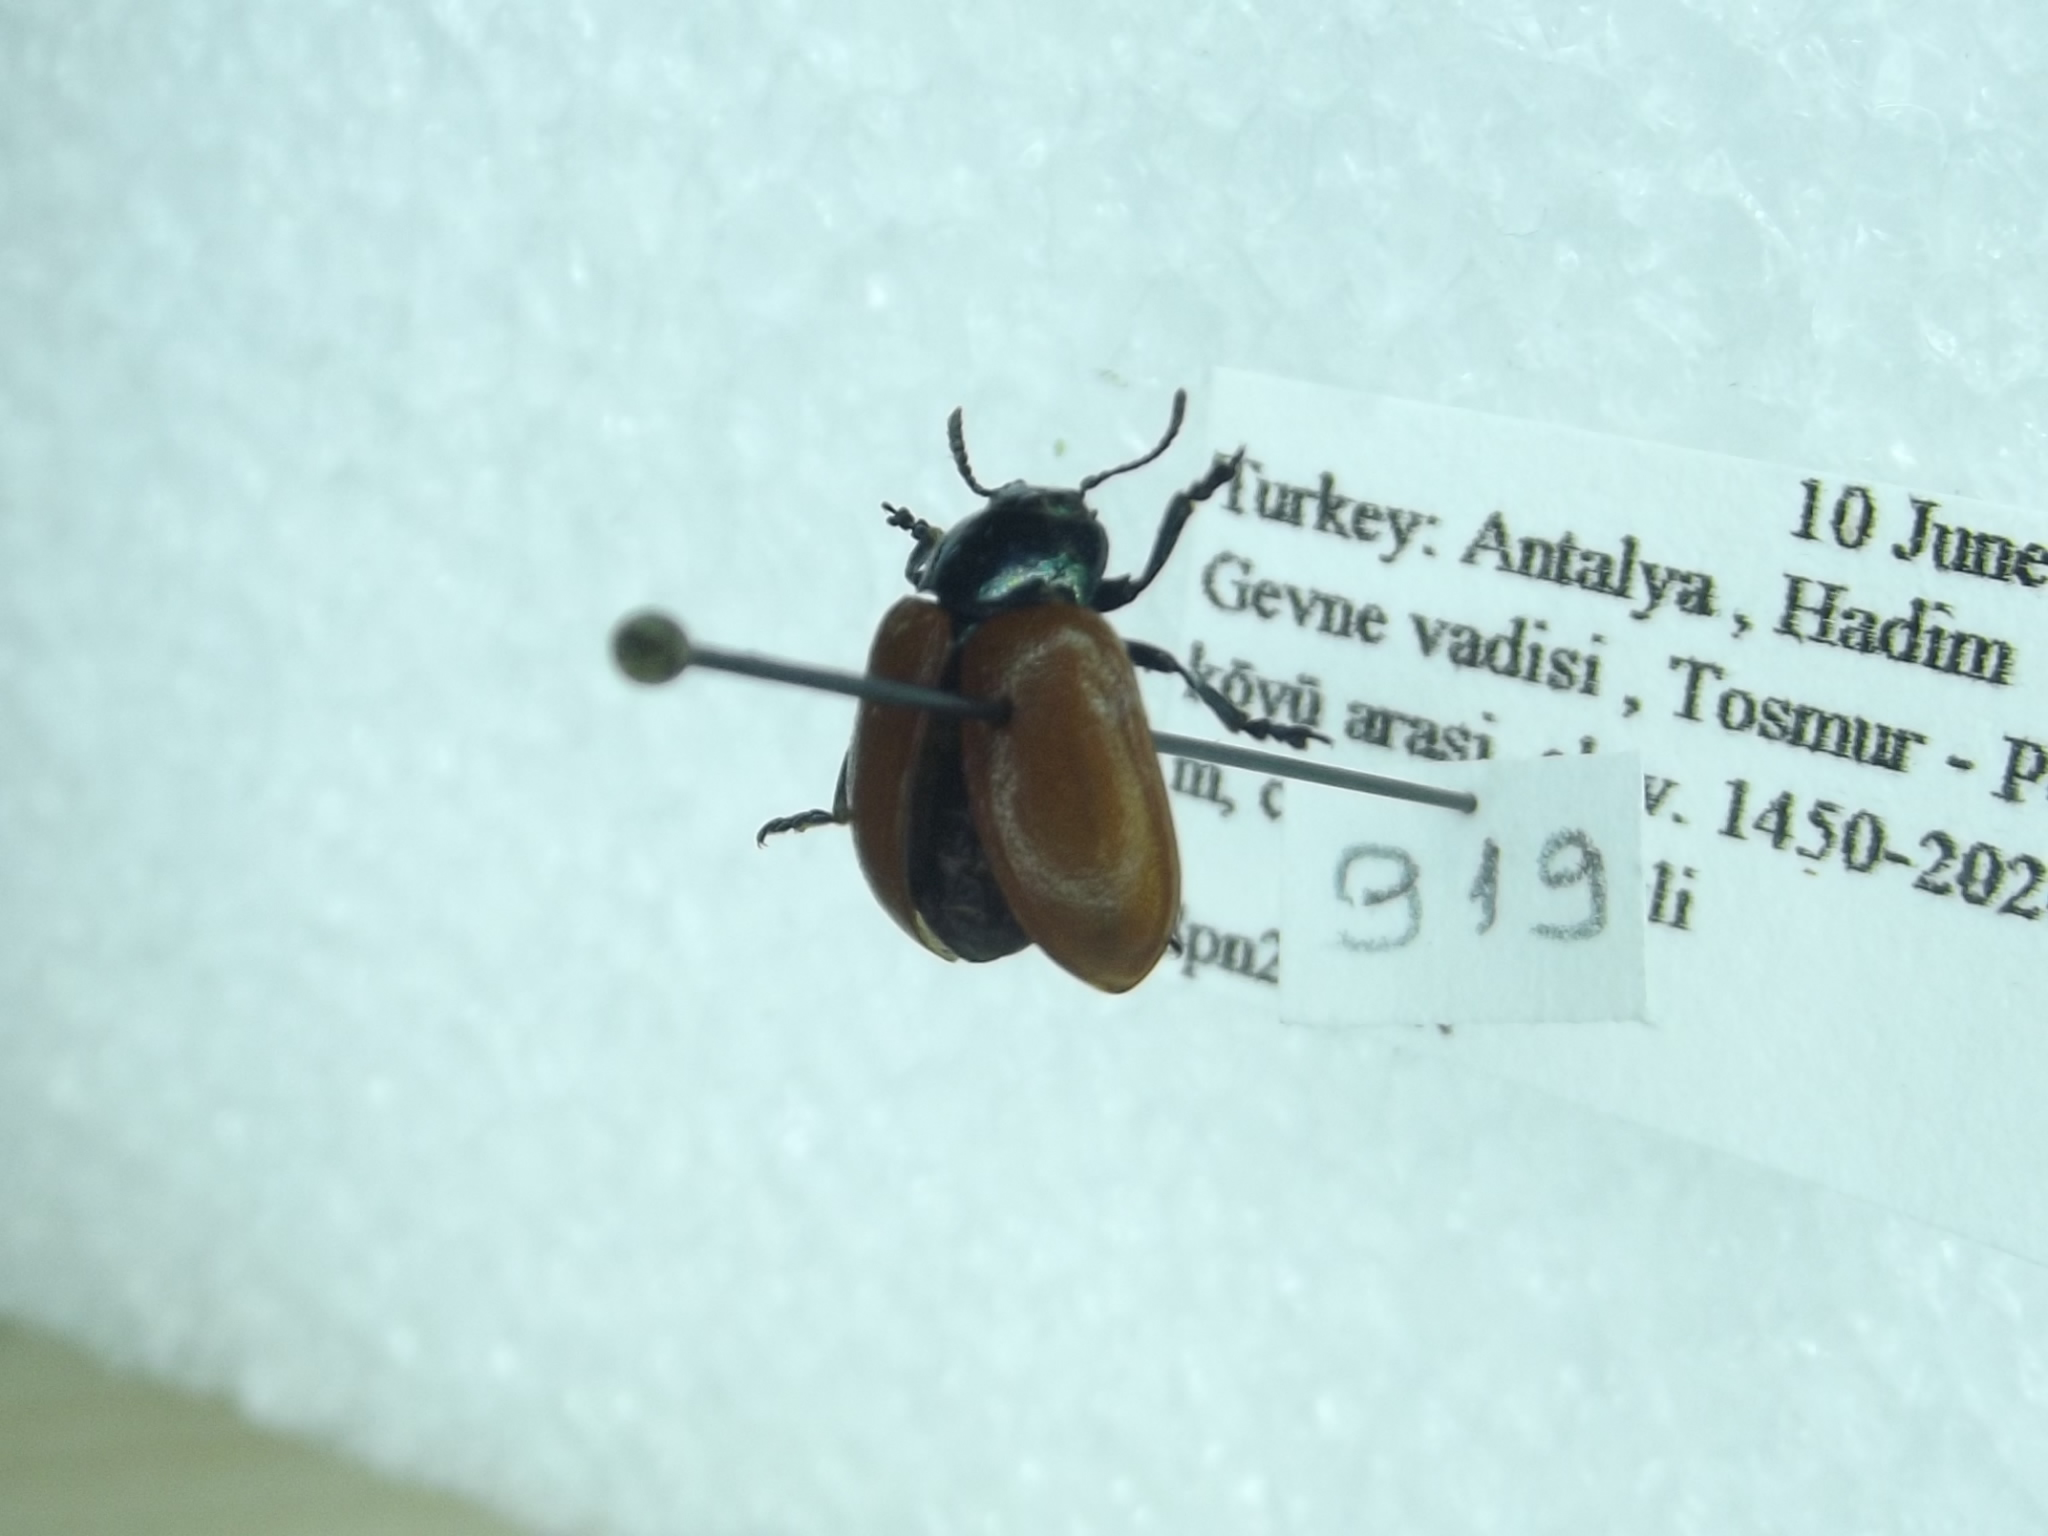Chrysomela_populi: (753, 353, 1330, 1015)
